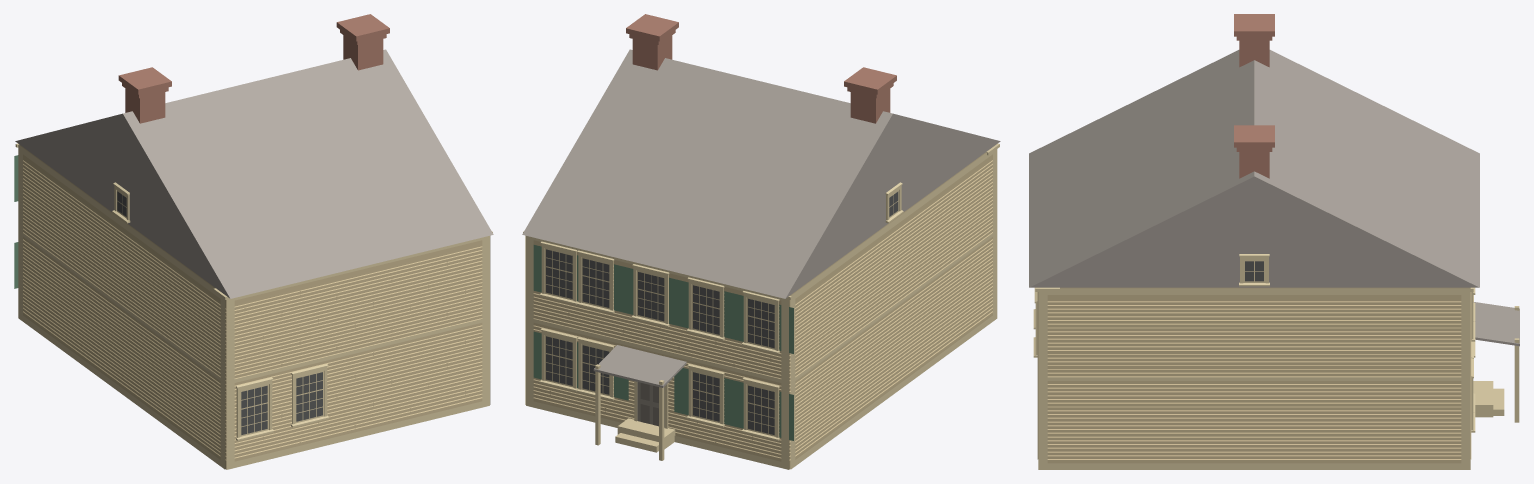
Rendered from recon_1835_blk_washington_franklin_h2_02__inferred_1835.glb.
The picture shows the model from 3 angles, left to right: view 1: azimuth 30°, elevation 25°; view 2: azimuth 150°, elevation 25°; view 3: azimuth 270°, elevation 25°; orthographic projection. The views are drawn at different scales.
Visible parts, largest first — view 1: recon_1835_blk_washington_franklin_h2_02__inferred_1835; view 2: recon_1835_blk_washington_franklin_h2_02__inferred_1835; view 3: recon_1835_blk_washington_franklin_h2_02__inferred_1835.
Boxes of the visible parts, bbox=[...] form: recon_1835_blk_washington_franklin_h2_02__inferred_1835: bbox=[14, 14, 493, 469]; recon_1835_blk_washington_franklin_h2_02__inferred_1835: bbox=[522, 14, 1000, 469]; recon_1835_blk_washington_franklin_h2_02__inferred_1835: bbox=[1029, 14, 1519, 469].
Bounding box in the file's own units: 9 × 9.83 × 13.49.
